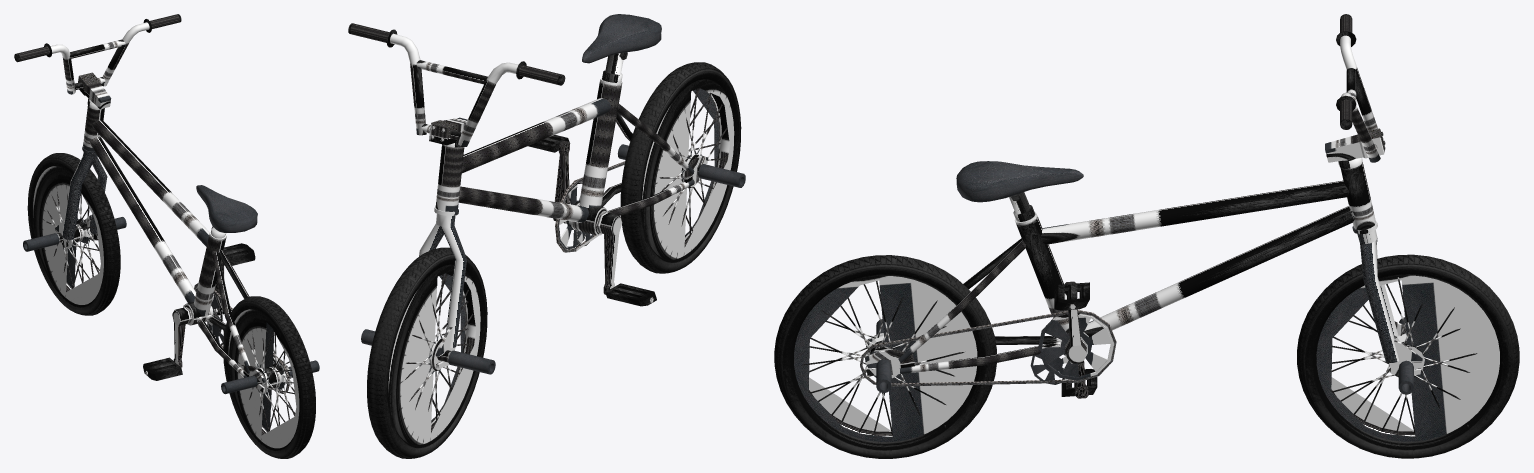
File: Bike.obj
3 renders of one model, left to right at view 1: azimuth 30°, elevation 25°; view 2: azimuth 150°, elevation 25°; view 3: azimuth 270°, elevation 25°, orthographic. The views are drawn at different scales.
Parts seen in each view (by area): view 1: Back_Wheel_003_Torus_006, Front_Wheel_003_Torus_007, Frameset_001_Cylinder_040, Forks_003_Cylinder_048, Seat_003_Cube_016, Bars_003_Cylinder_046, Crankset_006_Cylinder_041, Stem_003_Cube_017, Pedal_006_Cube_015, Pedal_007_Cube_019, Peg_012_Cylinder_050, Peg_014_Cylinder_052 (+2 smaller); view 2: Front_Wheel_003_Torus_007, Back_Wheel_003_Torus_006, Frameset_001_Cylinder_040, Bars_003_Cylinder_046, Forks_003_Cylinder_048, Seat_003_Cube_016, Crankset_006_Cylinder_041, Pedal_006_Cube_015, Peg_014_Cylinder_052, Crankset_007_Cylinder_043, Stem_003_Cube_017, Peg_012_Cylinder_050 (+5 smaller); view 3: Front_Wheel_003_Torus_007, Back_Wheel_003_Torus_006, Frameset_001_Cylinder_040, Seat_003_Cube_016, Forks_003_Cylinder_048, Dental_wheel_003_Cylinder_042, Chain_003_Cube_018, Bars_003_Cylinder_046, Stem_003_Cube_017, Crankset_007_Cylinder_043, Pedal_007_Cube_019.
Boxes of the visible parts, <box> form: Back_Wheel_003_Torus_006: <box>223,296,315,458</box>; Front_Wheel_003_Torus_007: <box>27,153,120,315</box>; Frameset_001_Cylinder_040: <box>83,105,291,392</box>; Forks_003_Cylinder_048: <box>55,144,107,247</box>; Seat_003_Cube_016: <box>196,185,257,232</box>; Bars_003_Cylinder_046: <box>50,22,149,94</box>; Crankset_006_Cylinder_041: <box>145,305,192,375</box>; Stem_003_Cube_017: <box>78,72,111,109</box>; Pedal_006_Cube_015: <box>143,357,182,380</box>; Pedal_007_Cube_019: <box>223,243,255,265</box>; Peg_012_Cylinder_050: <box>221,375,257,394</box>; Peg_014_Cylinder_052: <box>23,233,59,251</box>; Front_Wheel_003_Torus_007: <box>367,247,487,458</box>; Back_Wheel_003_Torus_006: <box>620,62,741,273</box>; Frameset_001_Cylinder_040: <box>435,78,707,235</box>; Bars_003_Cylinder_046: <box>390,33,518,146</box>; Forks_003_Cylinder_048: <box>419,207,466,368</box>; Seat_003_Cube_016: <box>582,14,661,63</box>; Crankset_006_Cylinder_041: <box>595,209,653,303</box>; Pedal_006_Cube_015: <box>605,283,656,306</box>; Peg_014_Cylinder_052: <box>448,350,495,374</box>; Crankset_007_Cylinder_043: <box>553,140,570,223</box>; Stem_003_Cube_017: <box>429,117,467,145</box>; Peg_012_Cylinder_050: <box>698,164,745,187</box>; Front_Wheel_003_Torus_007: <box>1297,254,1519,458</box>; Back_Wheel_003_Torus_006: <box>774,255,996,458</box>; Frameset_001_Cylinder_040: <box>865,162,1375,375</box>; Seat_003_Cube_016: <box>956,161,1083,202</box>; Forks_003_Cylinder_048: <box>1352,221,1422,377</box>; Dental_wheel_003_Cylinder_042: <box>1038,313,1114,380</box>; Chain_003_Cube_018: <box>860,310,1116,386</box>; Bars_003_Cylinder_046: <box>1340,35,1380,162</box>; Stem_003_Cube_017: <box>1325,128,1385,162</box>; Crankset_007_Cylinder_043: <box>1065,281,1087,363</box>; Pedal_007_Cube_019: <box>1054,282,1089,310</box>.
Size of the model in its own units: 1.86 by 3.23 by 5.52.
Materials: 1 (1 with a texture image).
